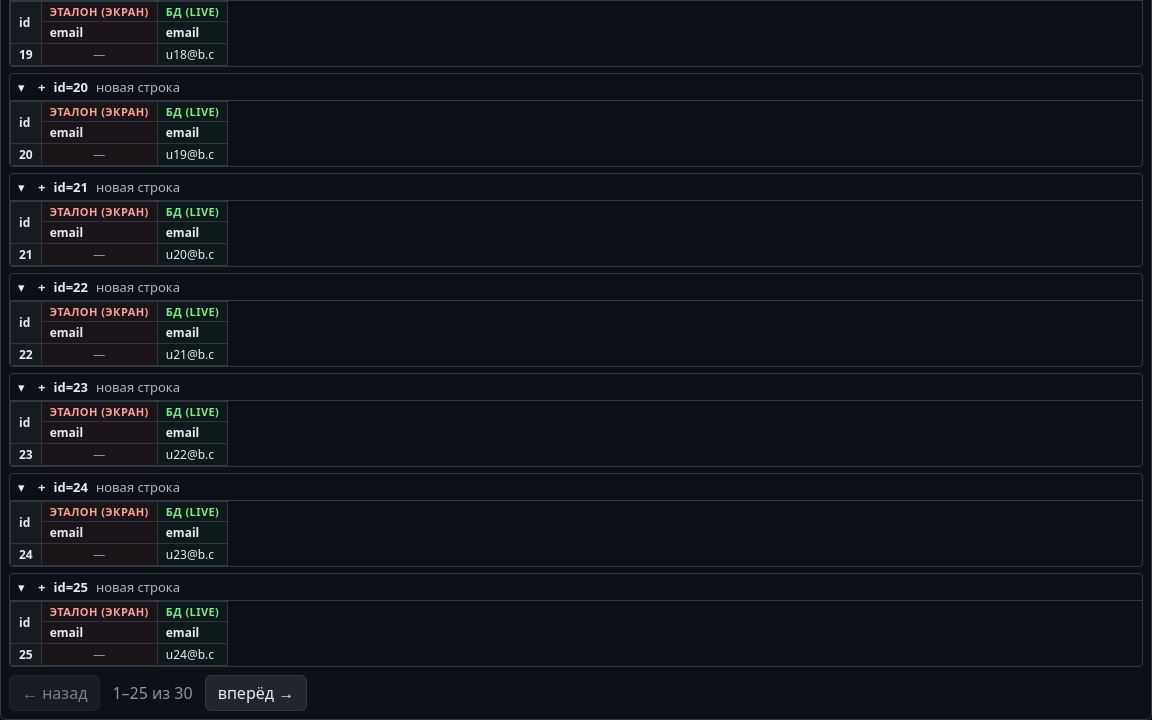
Test case: RowDiffView › paginates large change sets
(page scrolled)
Expected: the text "1–25 из 30" is shown, [112, 682, 193, 704]
Expected: the text "26–30 из 30" is not shown
Step 1. Click the button "вперёд →" → click(256, 693), box [205, 675, 307, 711]
(page scrolled)
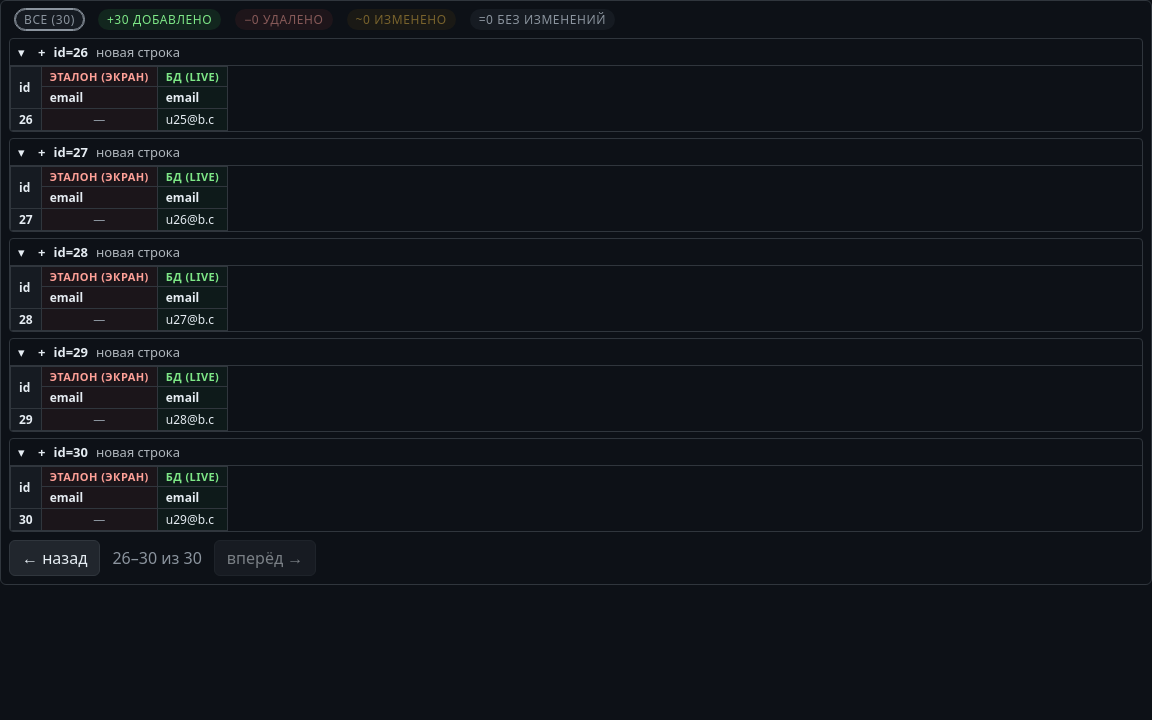
Result: the text "26–30 из 30" is shown at [112, 547, 202, 569]
